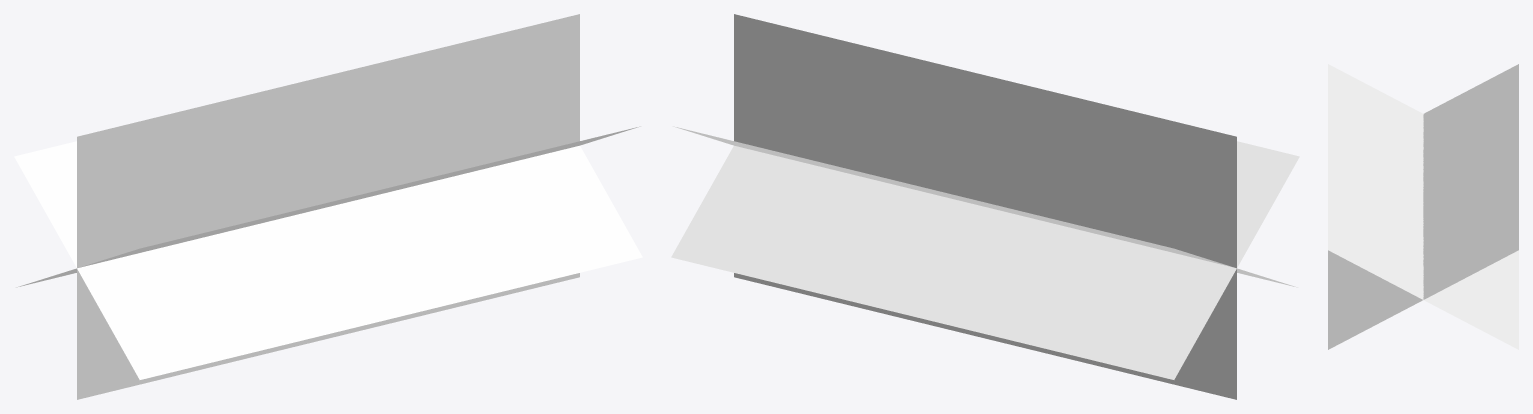
File: projectile.gltf
3 renders of one model, left to right at view 1: azimuth 30°, elevation 25°; view 2: azimuth 150°, elevation 25°; view 3: azimuth 270°, elevation 25°, orthographic. The views are drawn at different scales.
Parts seen in each view (by area): view 1: Plane; view 2: Plane; view 3: Plane.
Boxes of the visible parts, <box> form: Plane: <box>14,14,642,399</box>; Plane: <box>671,14,1299,399</box>; Plane: <box>1328,64,1518,349</box>.
Size of the model in its own units: 2 by 1 by 0.866.
1 material, 1 textured.
